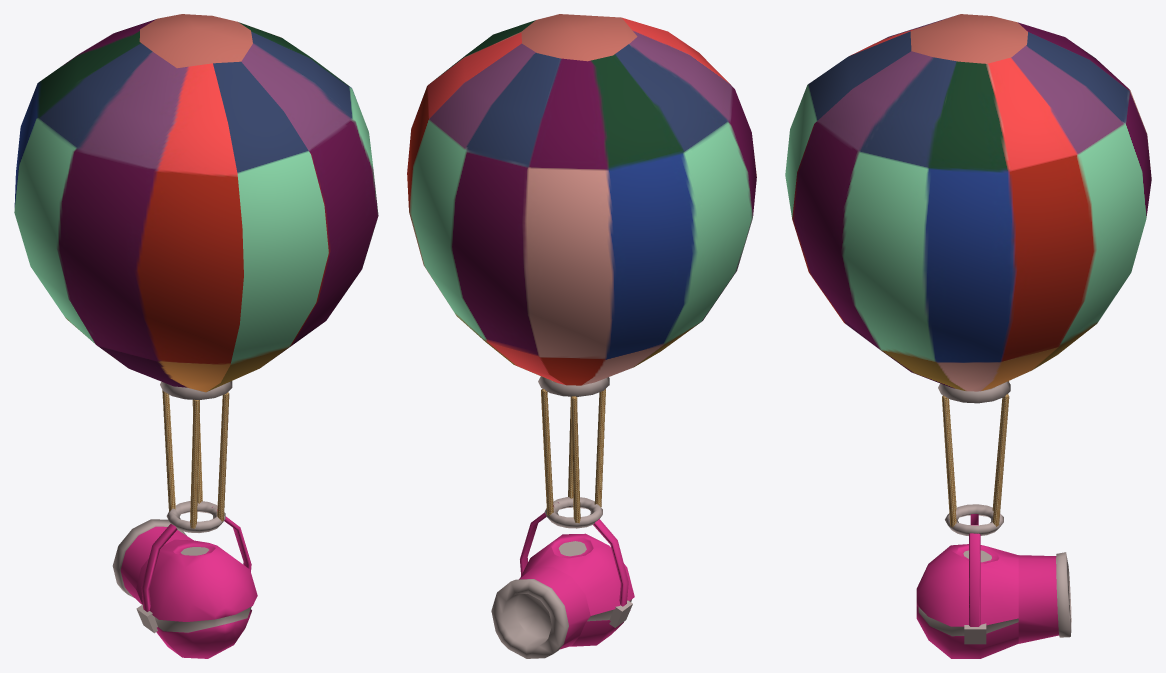
Rendered from OBS0110001.fbx.
The picture shows the model from 3 angles, left to right: view 1: azimuth 30°, elevation 25°; view 2: azimuth 150°, elevation 25°; view 3: azimuth 270°, elevation 25°; orthographic projection.
Visible parts, largest first — view 1: smOBS0110001; view 2: smOBS0110001; view 3: smOBS0110001.
Boxes of the visible parts, box(x1,y1,x2,y2) form: smOBS0110001: box(14, 14, 378, 658); smOBS0110001: box(407, 14, 756, 658); smOBS0110001: box(785, 14, 1151, 658).
Size of the model in its own units: 731 by 1397 by 745.
1 material, 1 textured.
